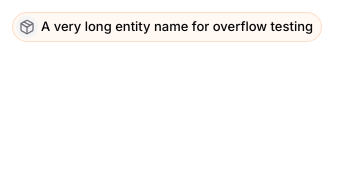
Scenario: PostedEntityPill › navigates to the entity without firing the enclosing card click
Click the button "A very long entity name for overflow testing": (167, 27) [12,12,322,42]
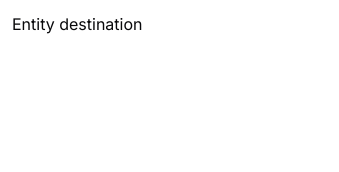
Result: the text "Entity destination" is shown at [12,14,142,34]
